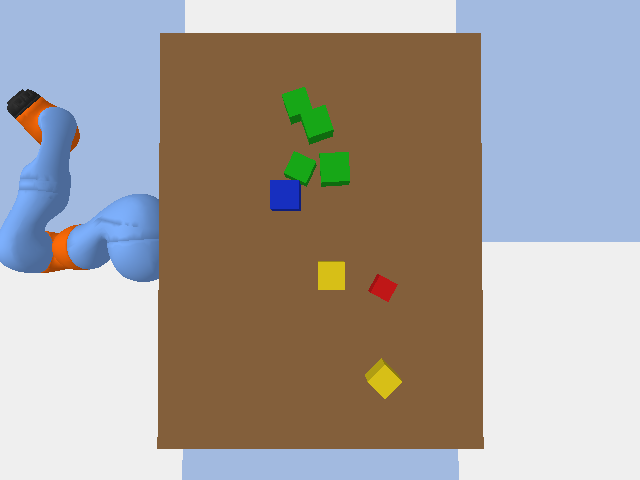blue_obj: (270, 180, 300, 210)
green_obj: (300, 105, 333, 144), (284, 151, 316, 186), (282, 87, 311, 124), (319, 152, 349, 186)
red_obj: (368, 274, 397, 301)
yellow_obj: (365, 358, 401, 398), (318, 261, 344, 289)
